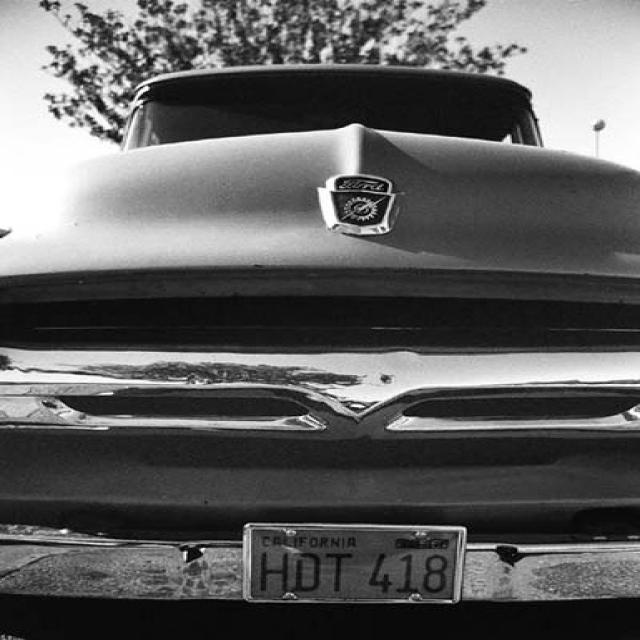car: (2, 64, 638, 639)
